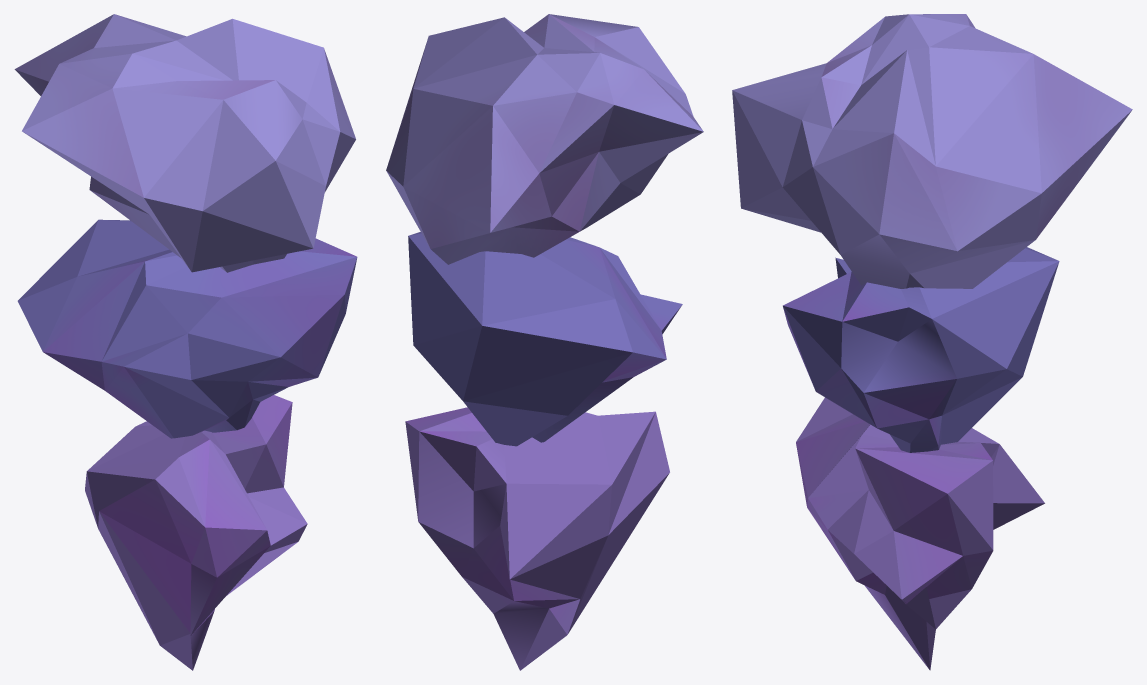
Rendered from stone_3_3.fbx.
The picture shows the model from 3 angles, left to right: view 1: azimuth 30°, elevation 25°; view 2: azimuth 150°, elevation 25°; view 3: azimuth 270°, elevation 25°; orthographic projection. The views are drawn at different scales.
Visible parts, largest first — view 1: st-3.001, st_1.001, st_2.001; view 2: st-3.001, st_2.001, st_1.001; view 3: st-3.001, st_1.001, st_2.001.
Boxes of the visible parts, <box> form: st-3.001: <box>14,14,355,272</box>; st_1.001: <box>17,219,357,438</box>; st_2.001: <box>85,395,307,670</box>; st-3.001: <box>386,14,703,264</box>; st_2.001: <box>405,407,669,670</box>; st_1.001: <box>408,232,682,446</box>; st-3.001: <box>732,14,1132,288</box>; st_1.001: <box>783,247,1059,452</box>; st_2.001: <box>796,397,1044,670</box>.
Bounding box in the file's own units: 2691 × 5310 × 3041.
Materials: 1 (1 with a texture image).
